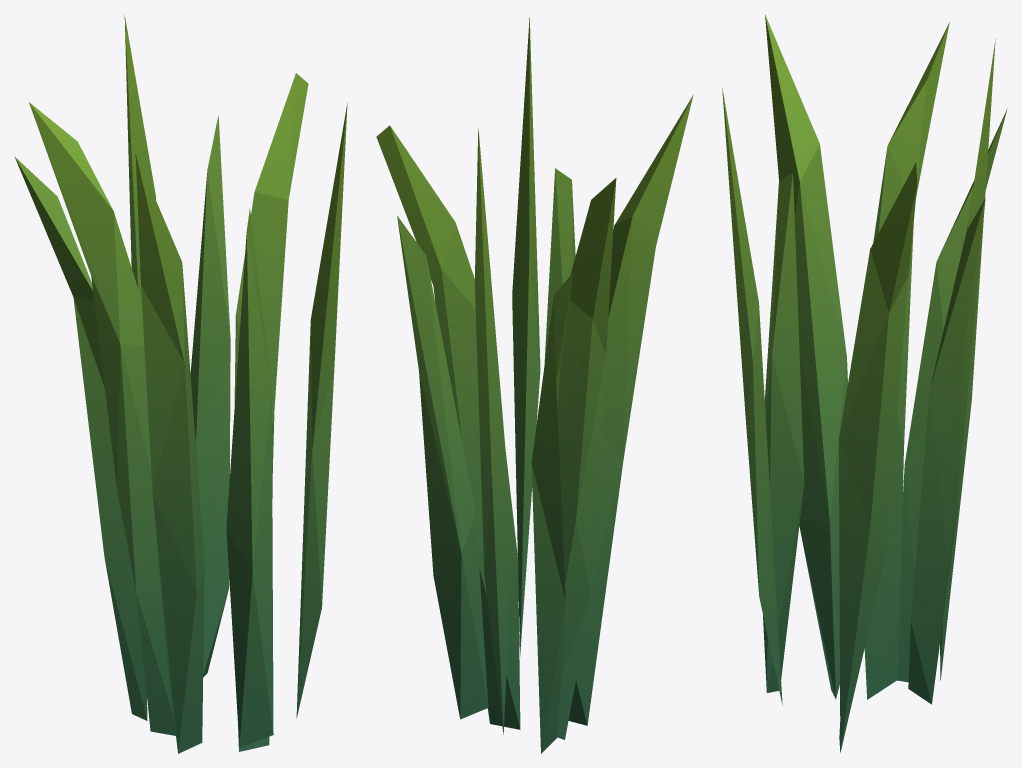
The model's file is ZLP_Grass_A_7.FBX.
3 renders of one model, left to right at view 1: azimuth 30°, elevation 25°; view 2: azimuth 150°, elevation 25°; view 3: azimuth 270°, elevation 25°, orthographic. The views are drawn at different scales.
Visible parts, largest first — view 1: ZLP_Grass_A_7; view 2: ZLP_Grass_A_7; view 3: ZLP_Grass_A_7.
Boxes of the visible parts, x1,y1,x2,y2 form: ZLP_Grass_A_7: [14, 15, 347, 753]; ZLP_Grass_A_7: [376, 17, 693, 753]; ZLP_Grass_A_7: [722, 14, 1007, 752].
Bounding box in the file's own units: 31.95 × 79.93 × 30.24.
